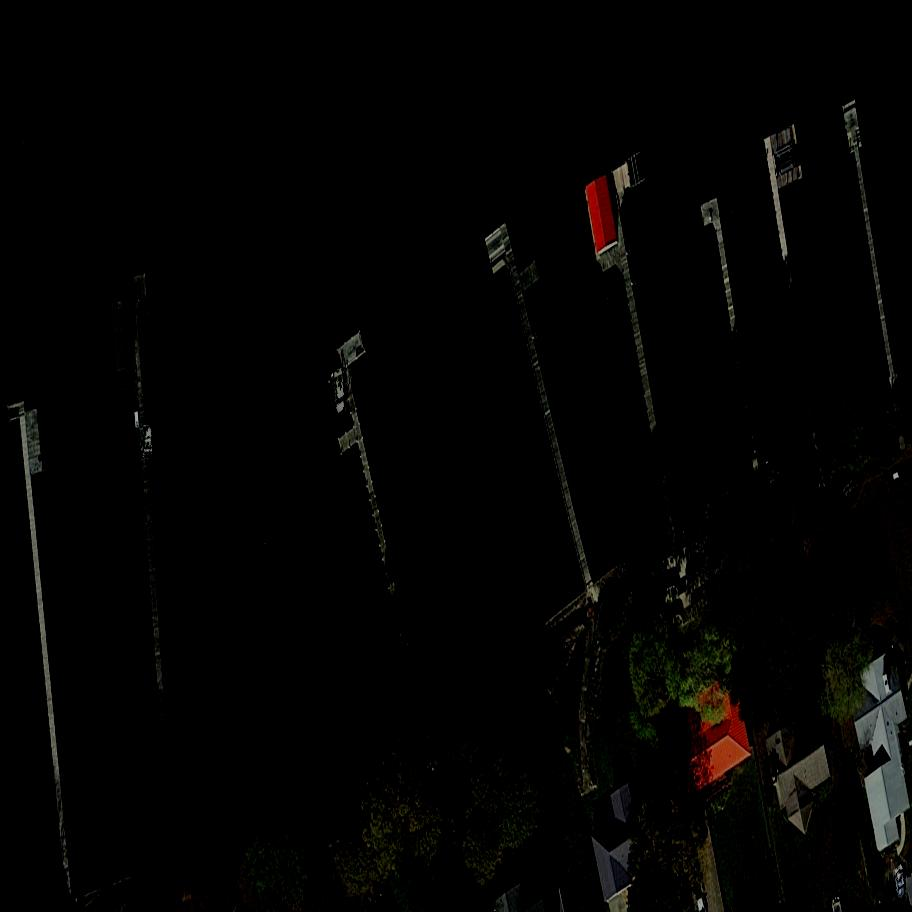ship: (890, 862, 908, 908), (333, 367, 346, 416), (143, 425, 155, 457)
